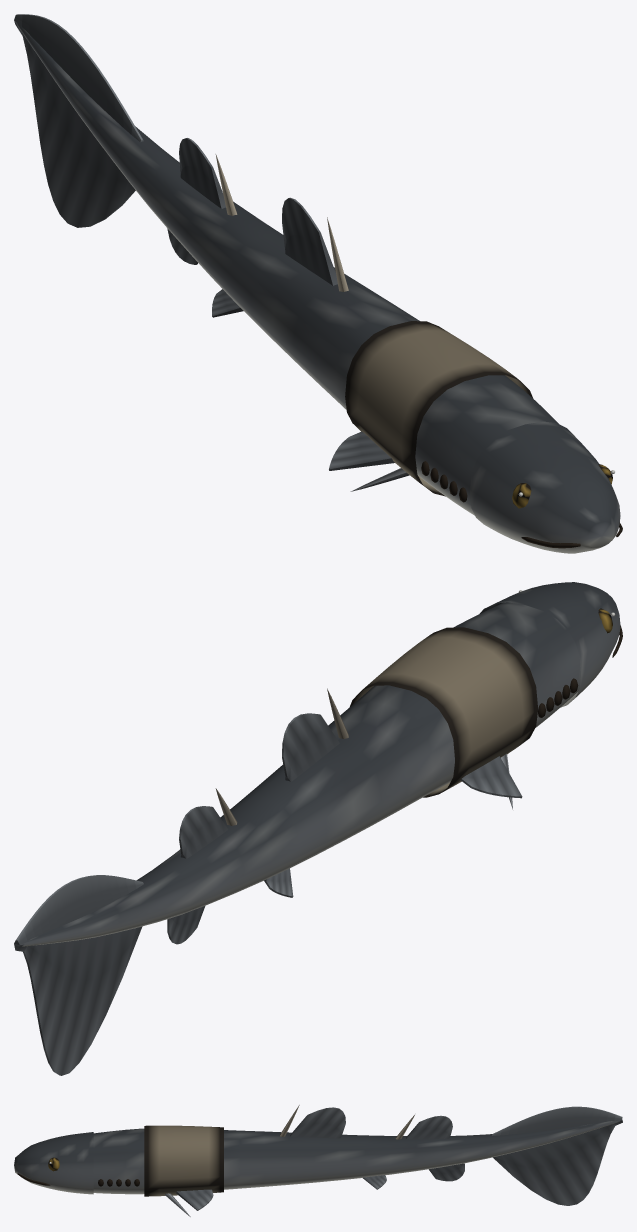
The model's file is ShenacanthusVermiformis.fbx.
3 renders of one model, top to bottom at view 1: azimuth 30°, elevation 25°; view 2: azimuth 150°, elevation 25°; view 3: azimuth 270°, elevation 25°, orthographic. The views are drawn at different scales.
Parts seen in each view (by area): view 1: ShenacanthusVermiformis; view 2: ShenacanthusVermiformis; view 3: ShenacanthusVermiformis.
Boxes of the visible parts, left/top/right/bottom form: ShenacanthusVermiformis: left=14, top=14, right=622, bottom=553; ShenacanthusVermiformis: left=14, top=582, right=622, bottom=1075; ShenacanthusVermiformis: left=14, top=1105, right=622, bottom=1216.
Size of the model in its own units: 0.3209 by 0.3104 by 1.68.
